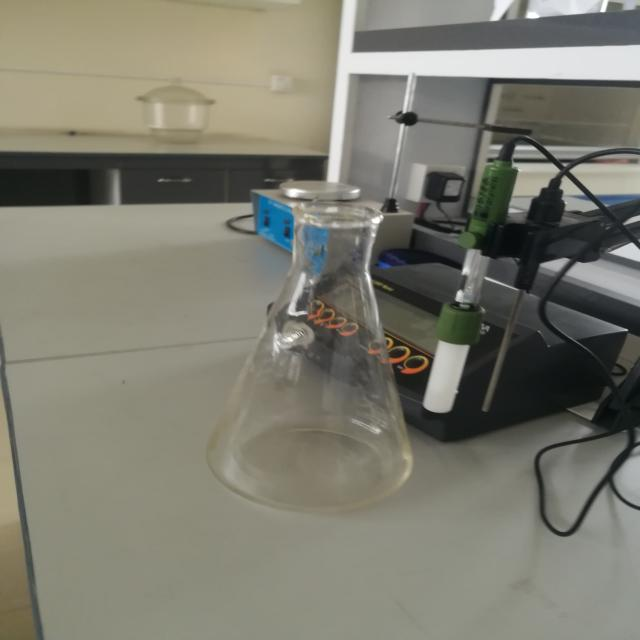Conical_Flask: (181, 175, 461, 540)
